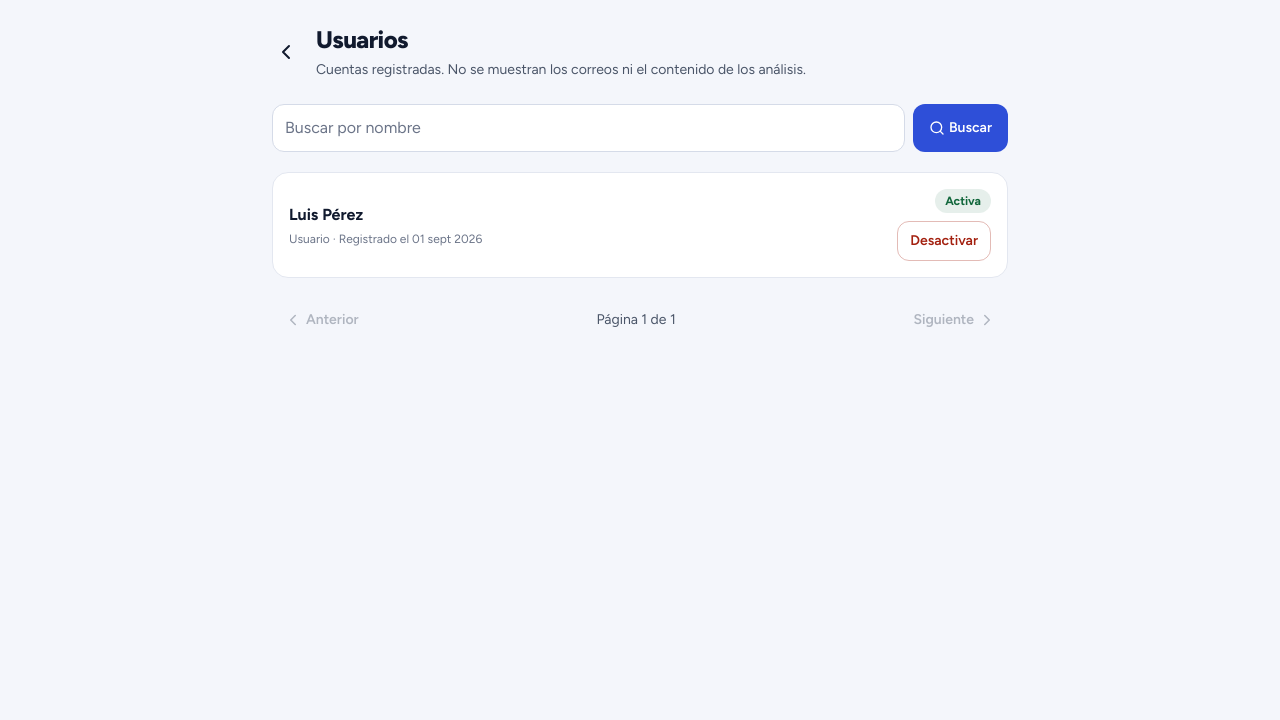
Test: AdminUsuarios › desactiva una cuenta tras confirmar
The width and height of the screenshot is (1280, 720).
Click the button with aria-label "Desactivar la cuenta de Luis Pérez" at (944, 241), box [897,221,991,261]
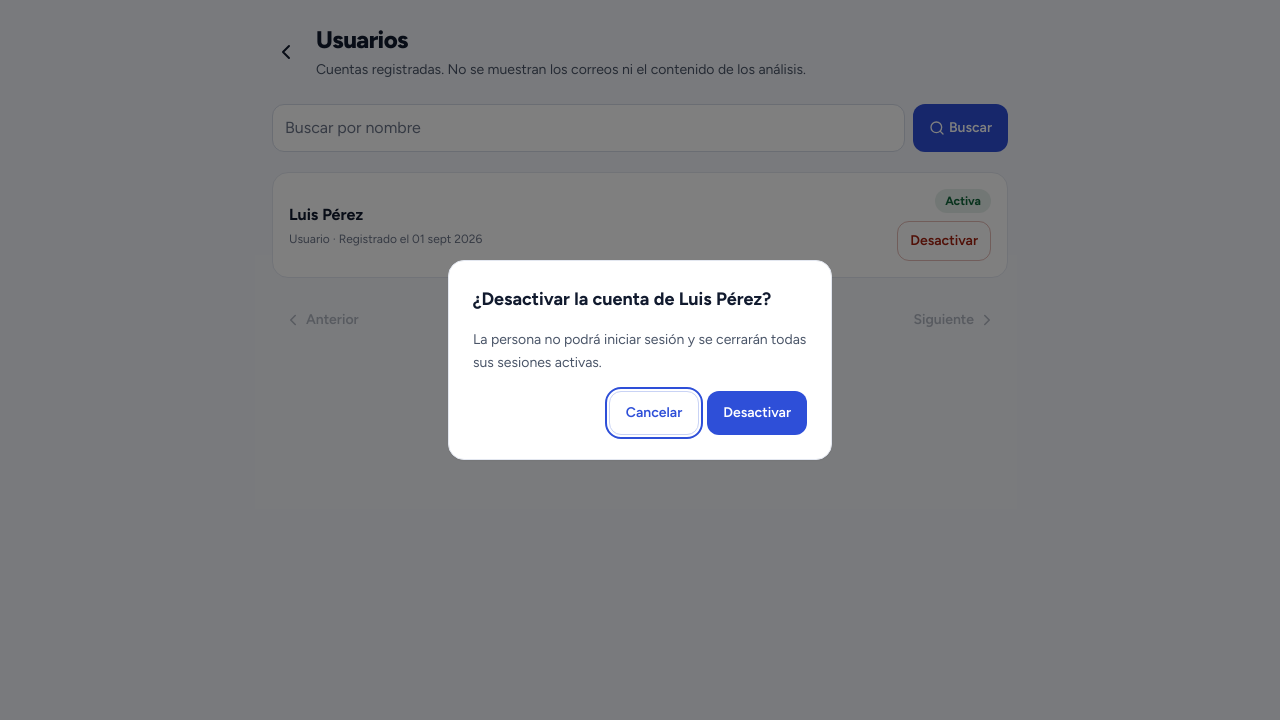
Click the button "Desactivar" at (757, 413), box [707,391,807,435]
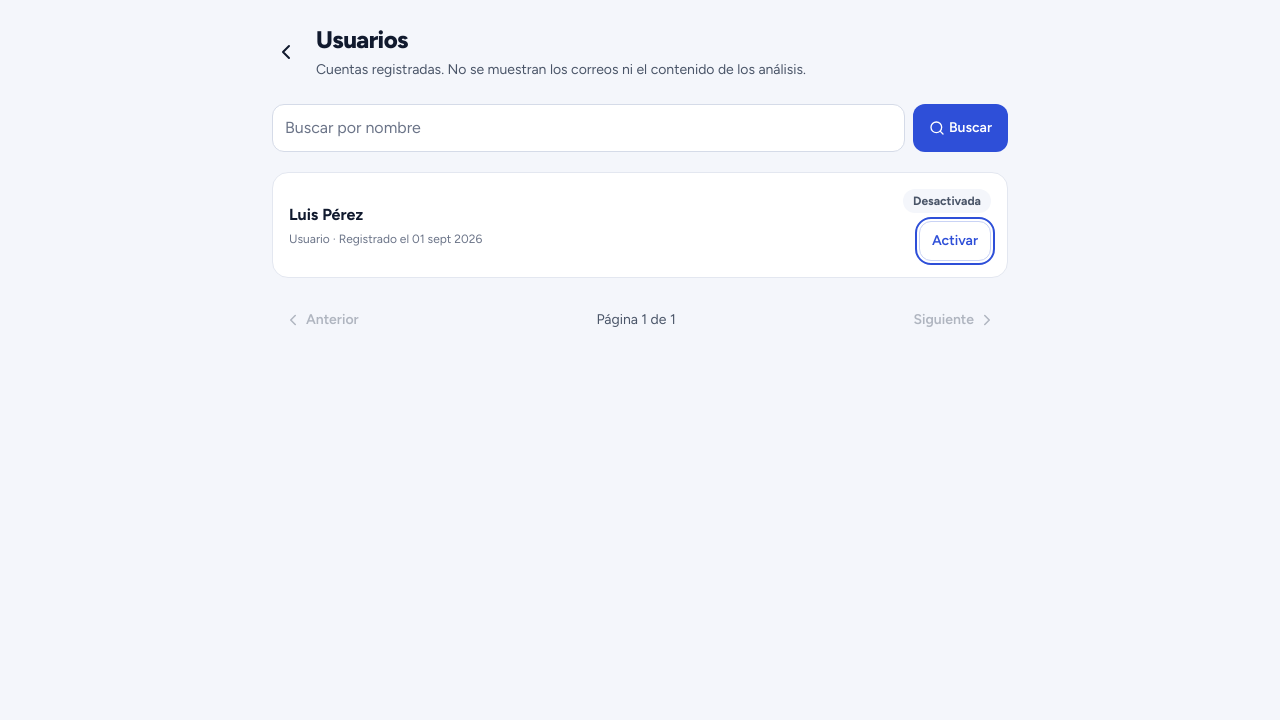
Check: the button with aria-label "Activar la cuenta de Luis Pérez" is shown, box [919,221,991,261]
Check: the text "Desactivada" is shown, box [903,189,991,213]
